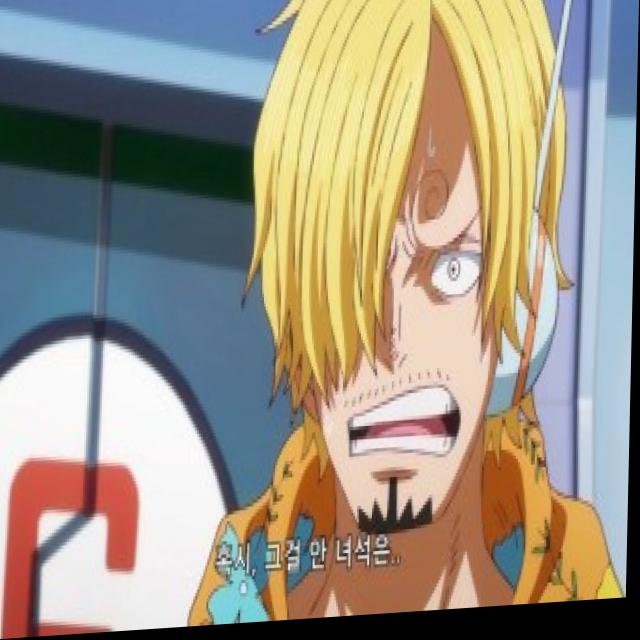Sangdi: (223, 0, 584, 608)
